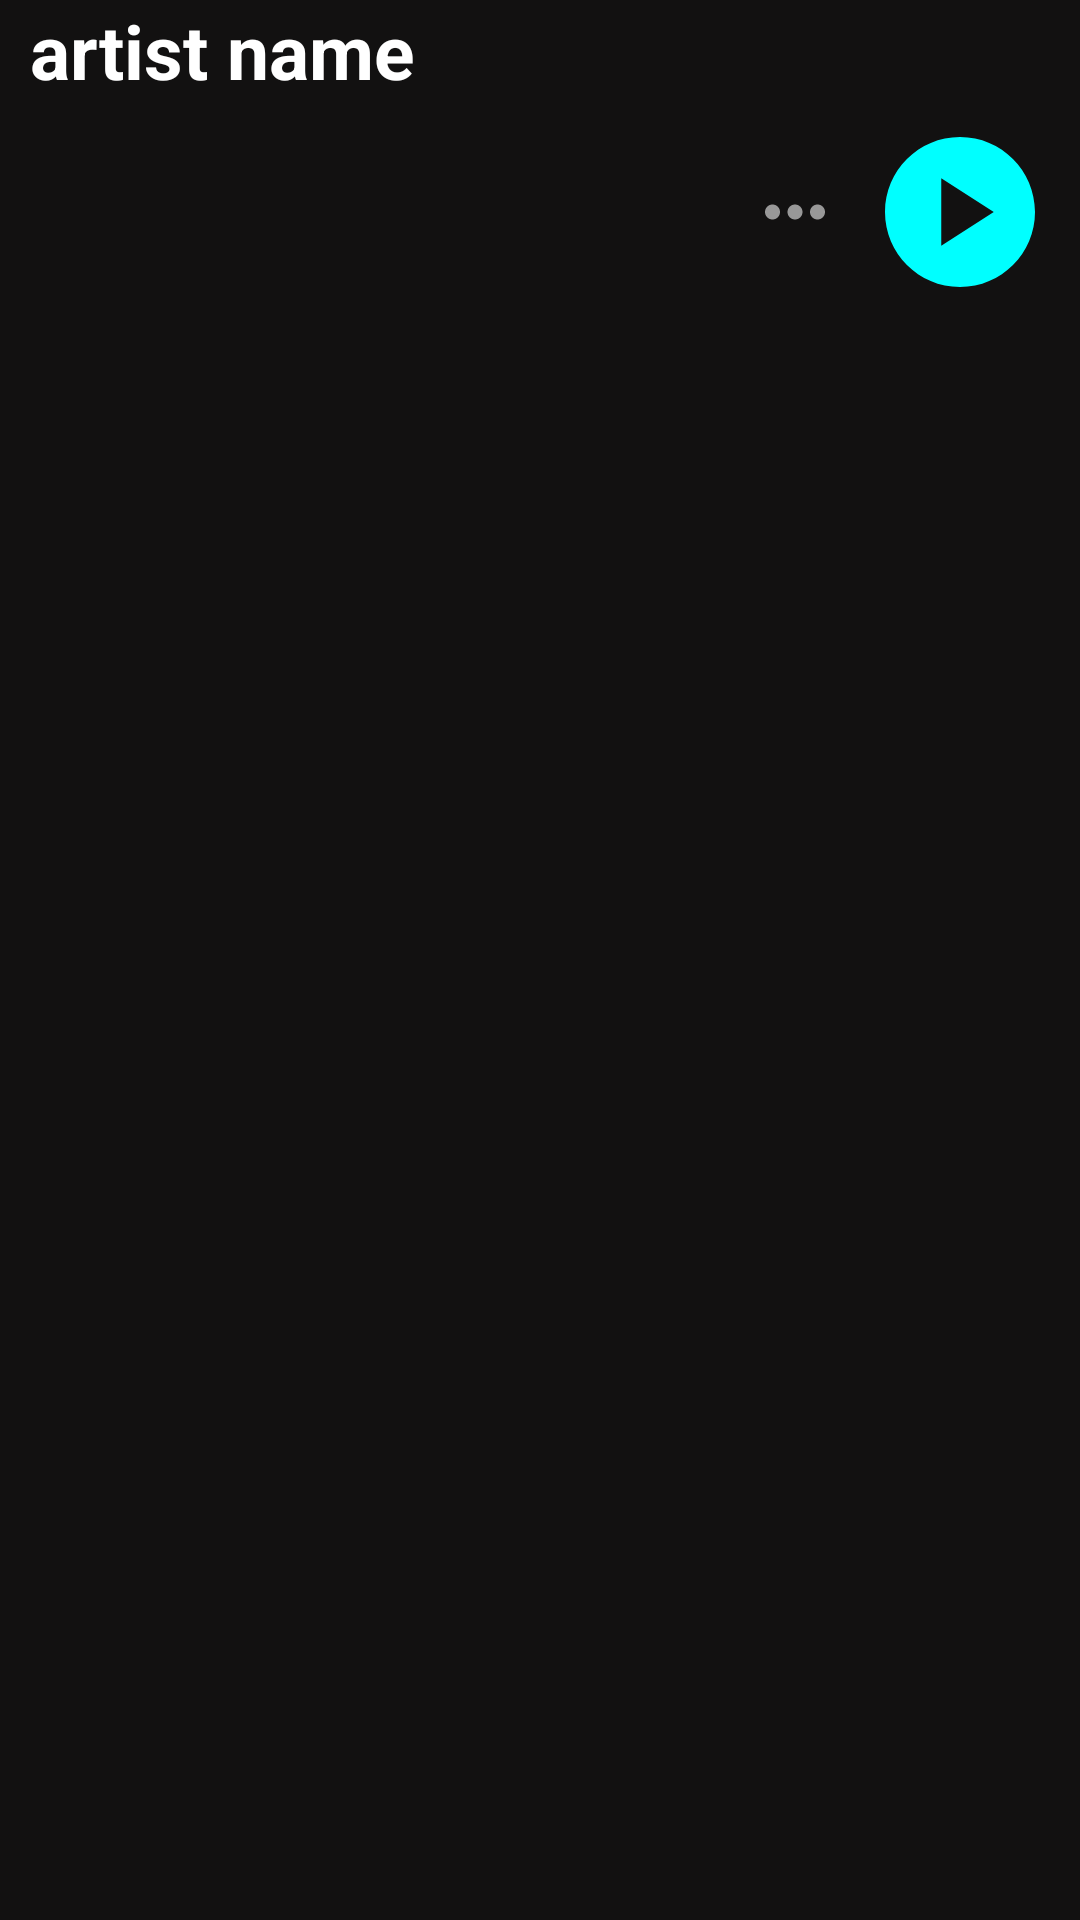

Point at icon controls on the screen. Image size 1080×1920, points as point (x, y).
more: point (795, 212)
play: point (960, 212)
